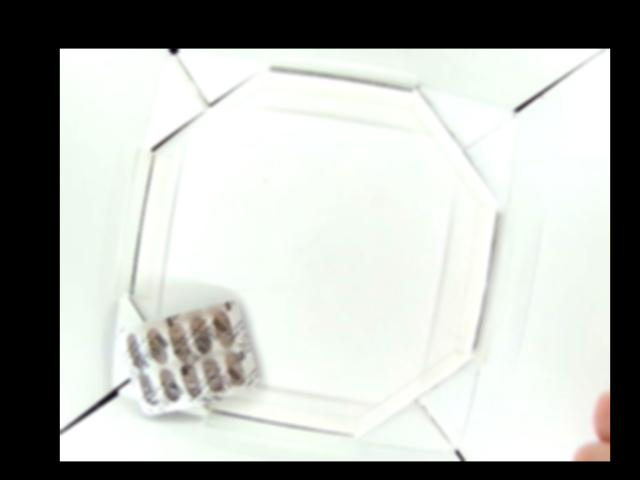Medicine: (119, 298, 263, 417)
